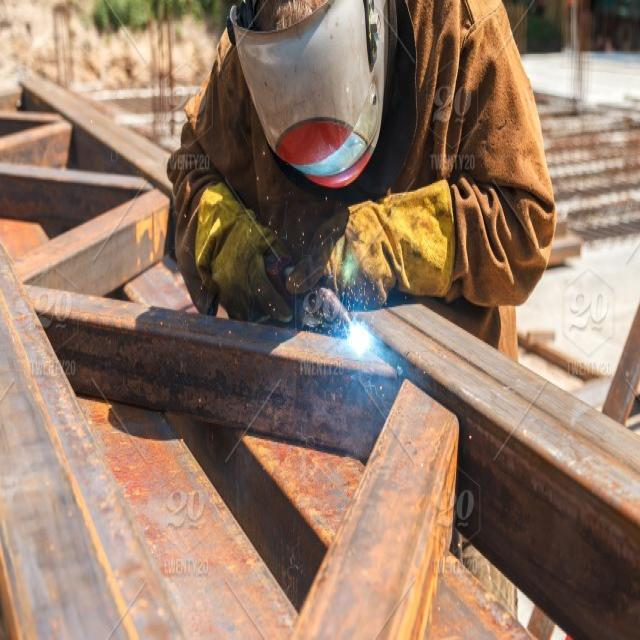with_helmet: (229, 0, 397, 188)
